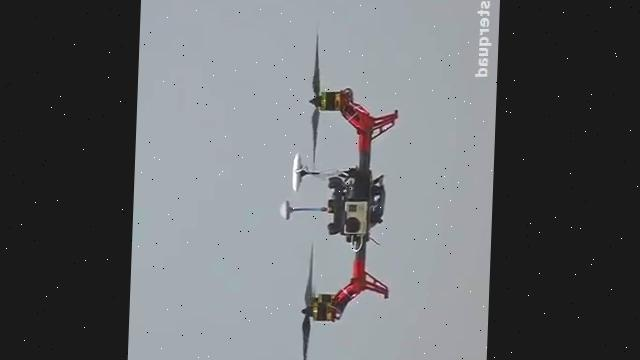drone: (274, 25, 401, 360)
